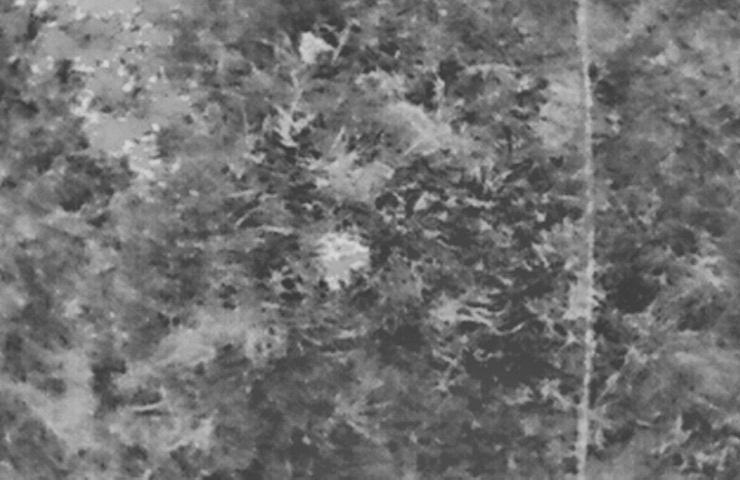landmines: (311, 230, 375, 294)
